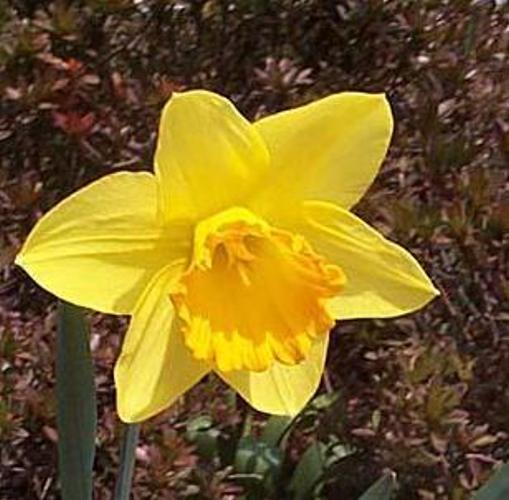flower1: (14, 88, 445, 427)
